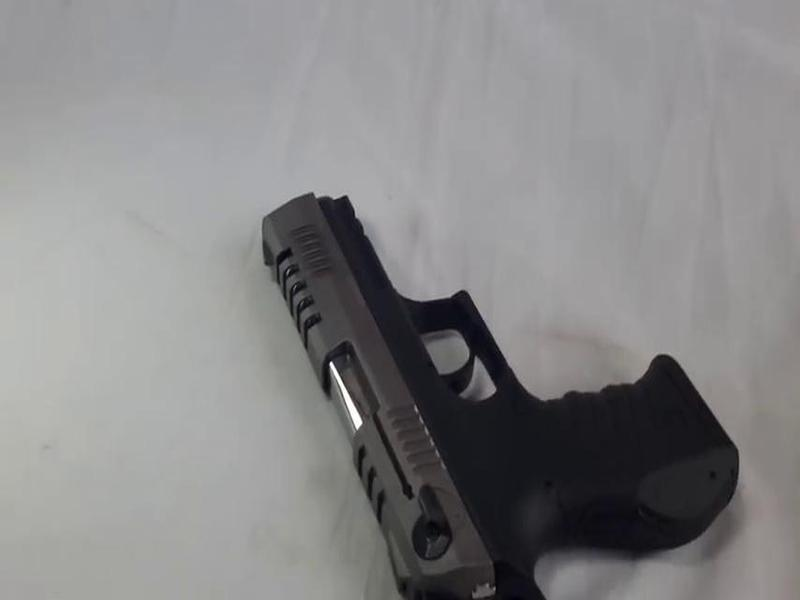Pistola: (230, 168, 800, 576)
